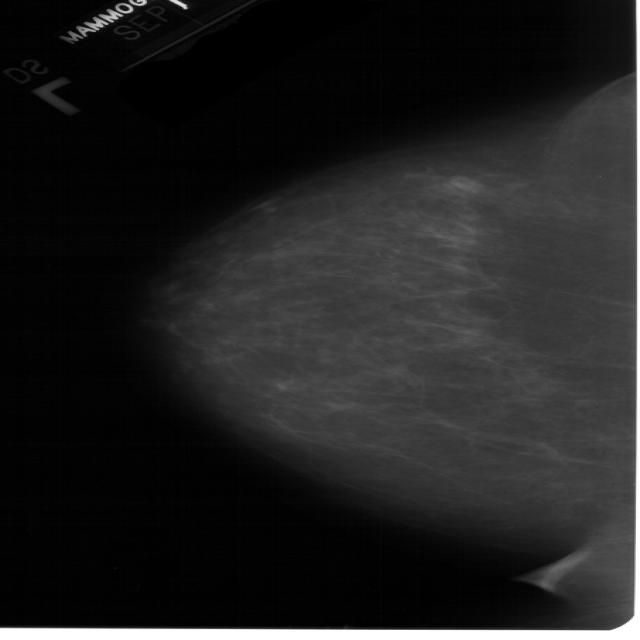tumour: (446, 173, 482, 192)
